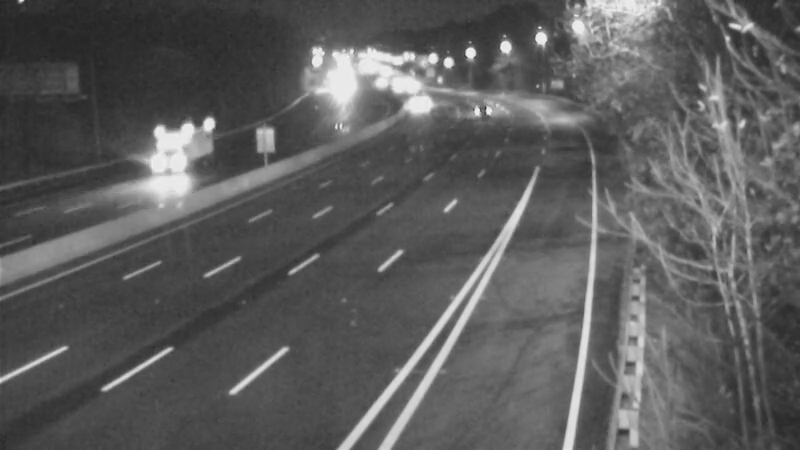vehicle: (115, 113, 195, 193), (383, 82, 433, 132), (453, 77, 503, 127)
